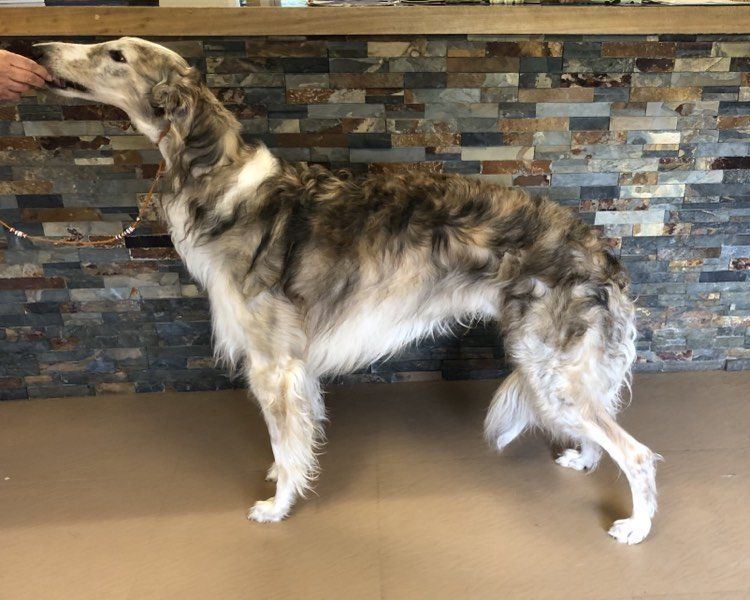borzoi: (13, 24, 674, 551)
